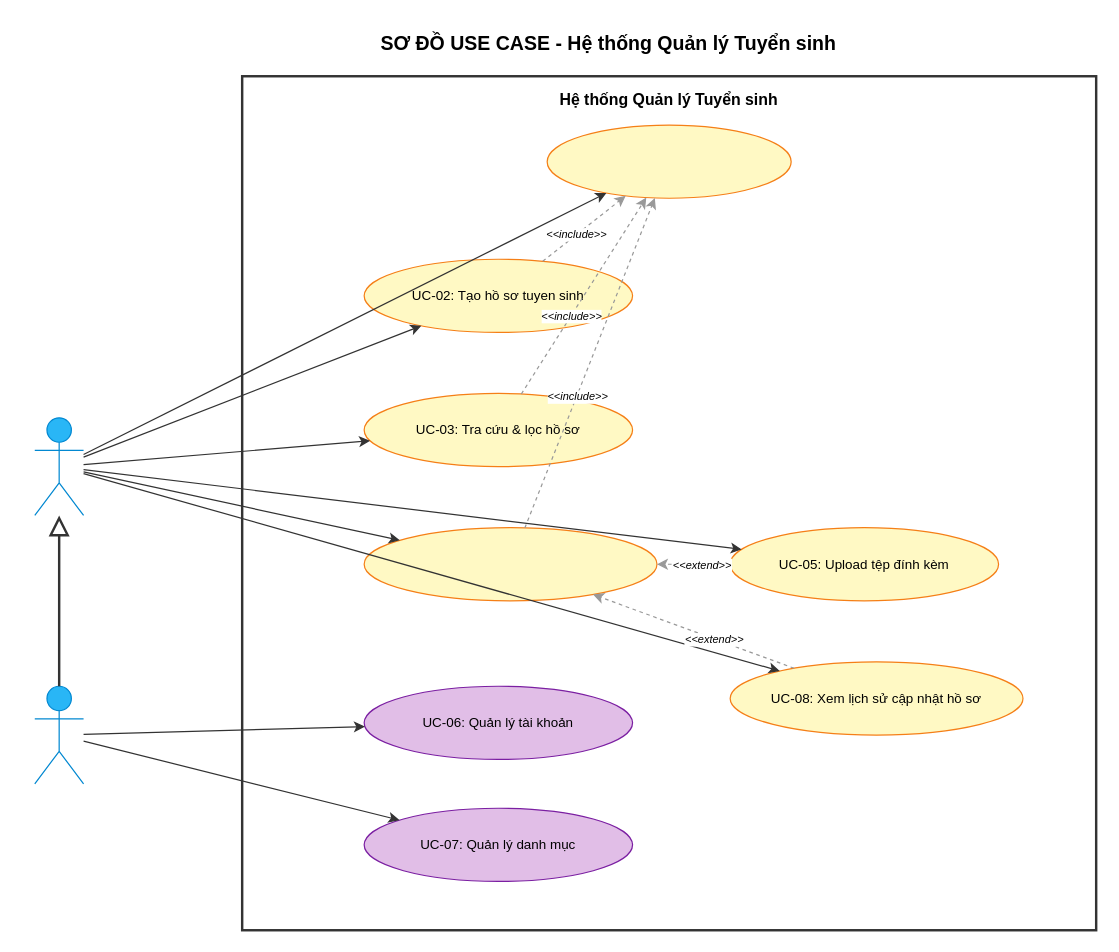
Image size: 1119x952. Some labels were removed from this diagram. The centre of each missing label's shape, as x and y in pixels:
"Quản trị viên (admin)" belongs at (59,734).
"UC-01: Đăng nhập" belongs at (668,161).
"UC-04: Cập nhật trạng thái hồ sơ" belongs at (510,563).
"User (staff)" belongs at (59,466).
